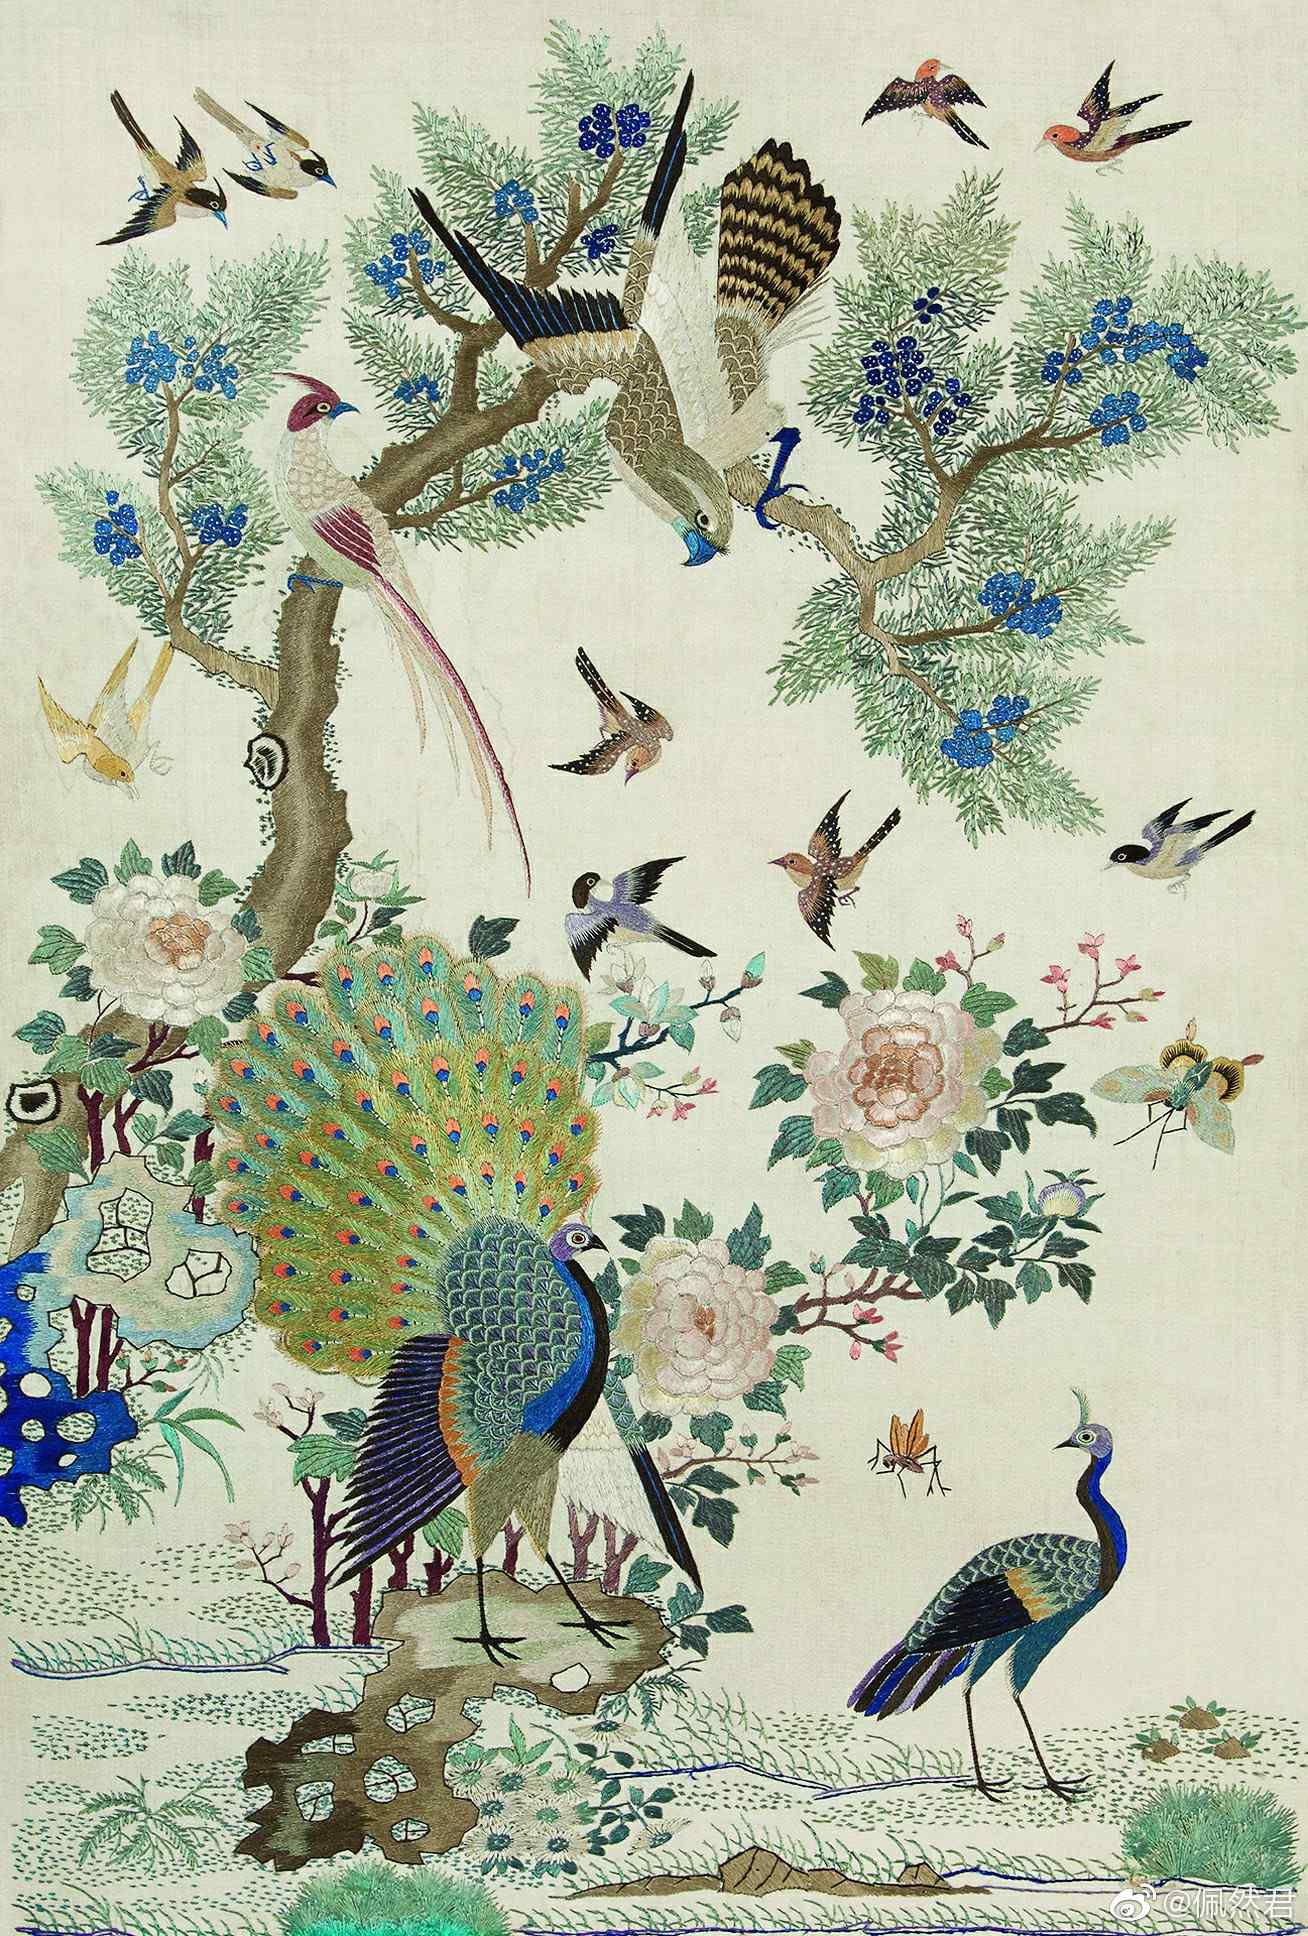bird: (401, 69, 847, 572), (261, 366, 540, 899), (91, 89, 234, 250), (769, 787, 905, 950), (31, 639, 163, 804), (1032, 55, 1193, 184), (545, 642, 673, 793), (188, 80, 345, 203), (562, 854, 718, 972), (1102, 793, 1254, 910), (854, 48, 996, 152)
flower: (801, 980, 1001, 1171), (610, 1231, 780, 1413), (77, 866, 250, 1021)
peacock: (182, 923, 717, 1669), (839, 1386, 1131, 1810)
